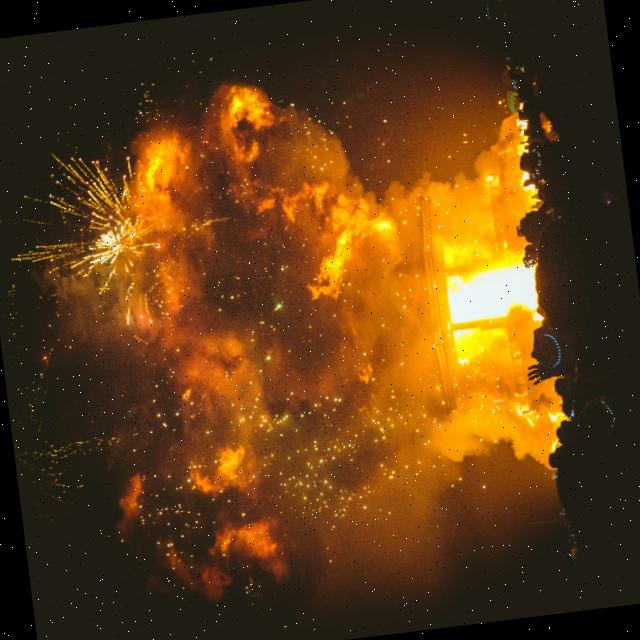explosion: (0, 44, 544, 629)
